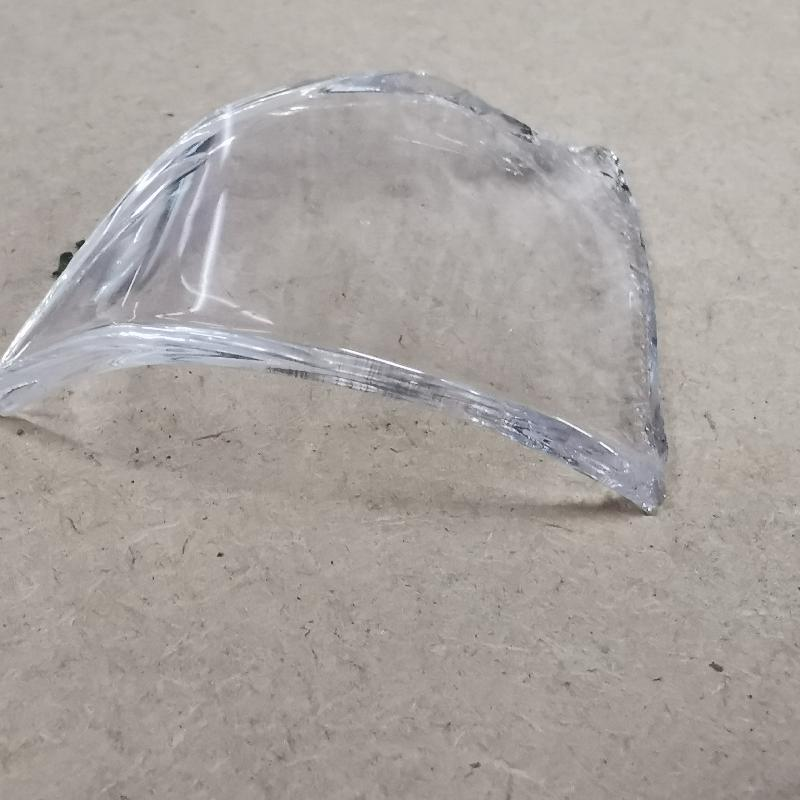glass: (1, 72, 679, 514)
